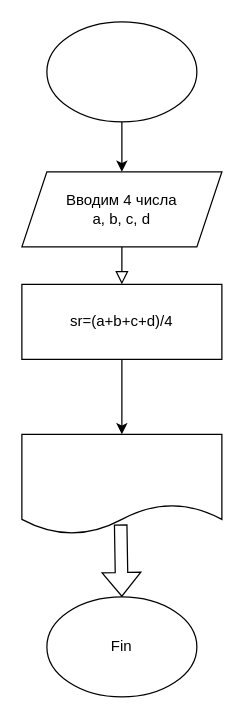
The diagram is 244 pixels wide and 719 high, and some of its shapes have lost their labels. Here are the shapes that lost their labels. From the top down, the centre of each, then its label:
At point (121, 71): "Start".
At point (121, 483): "Выводим sr".
